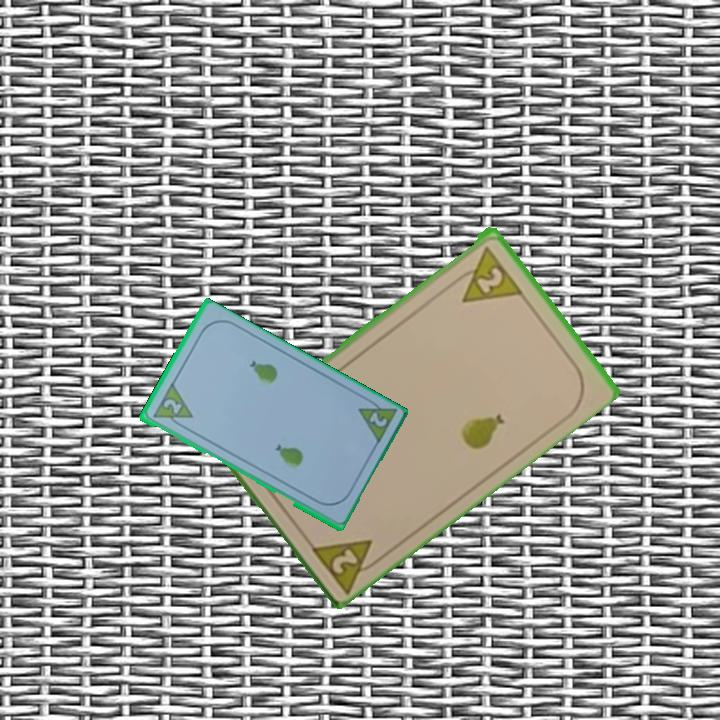2p: (305, 534, 388, 594), (448, 242, 525, 306), (159, 395, 184, 417), (365, 408, 390, 430)
